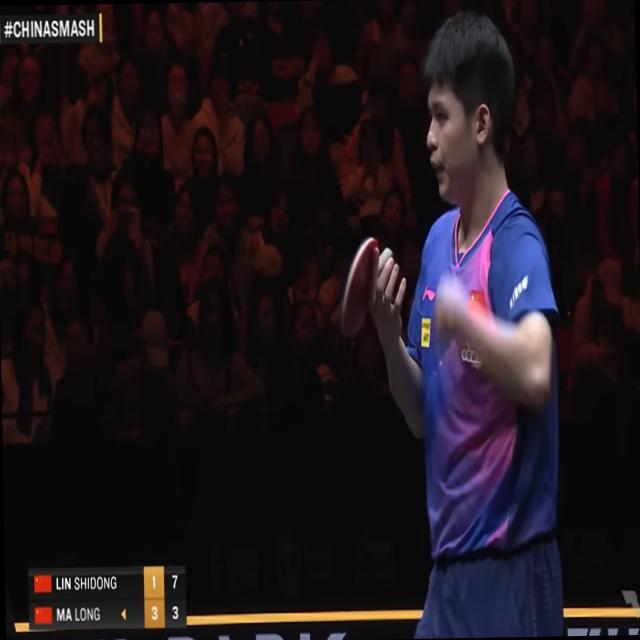TT Racket: (329, 221, 391, 350)
